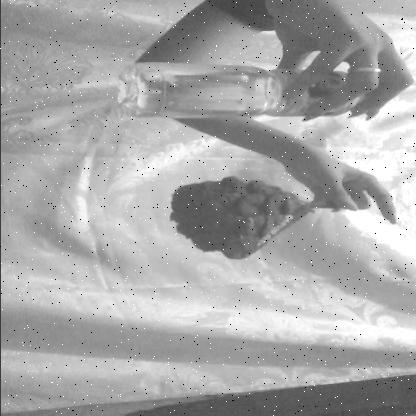Plastic Bottle: (106, 36, 384, 138)
